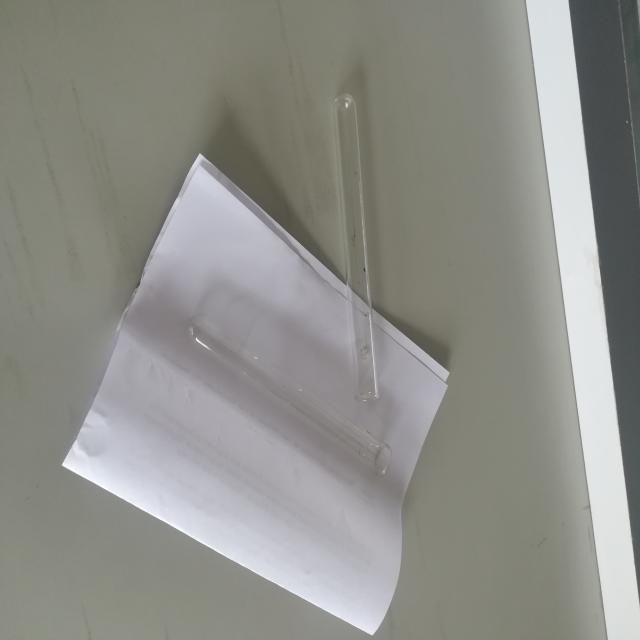Test_Tube: (174, 284, 416, 499), (314, 65, 422, 408)
